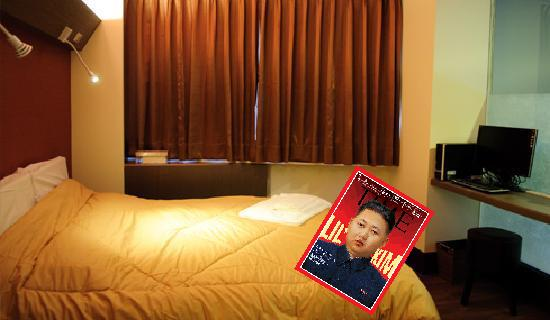times: (292, 164, 433, 314)
